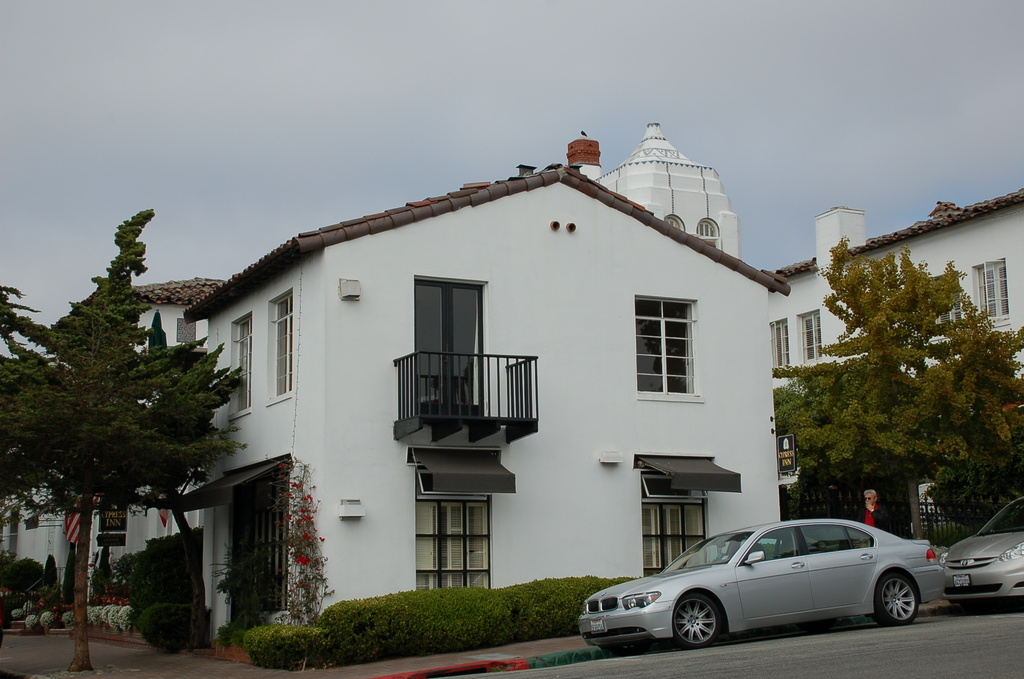cars: (578, 519, 942, 649), (943, 493, 1023, 601)
